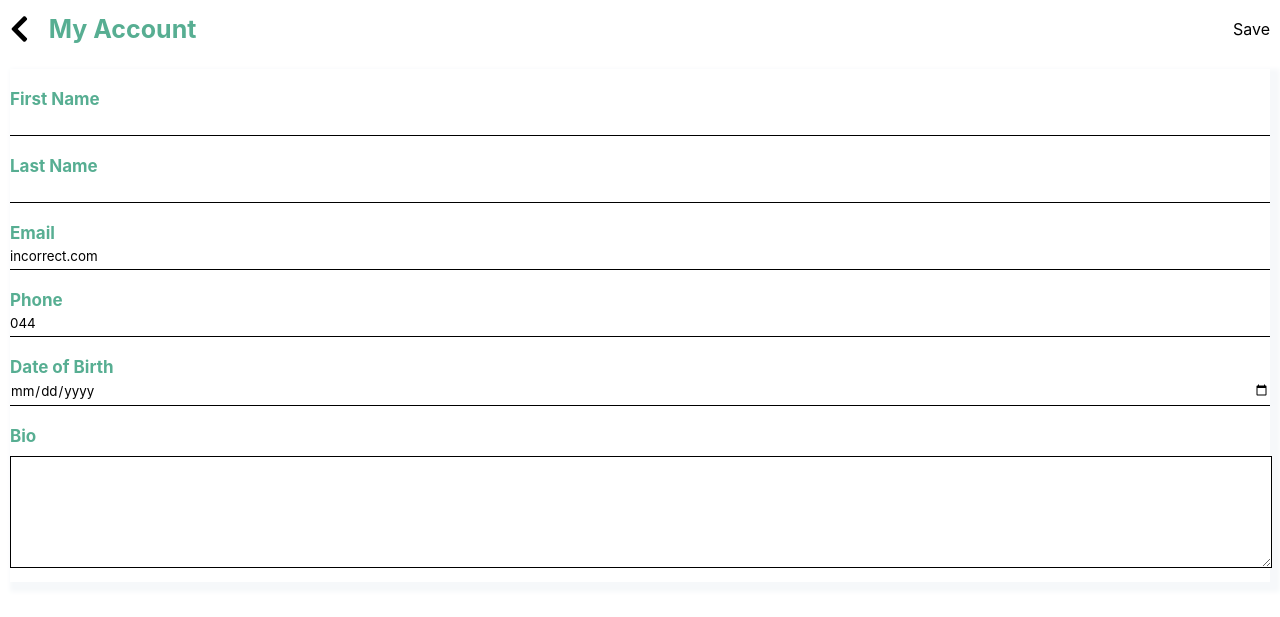
Test case: Save Button: Test the MyAccount form to ensure all field type (e.g email) validation shows
Click the text "Save" at [1252, 29], box x1=1233 y1=19 x2=1270 y2=39
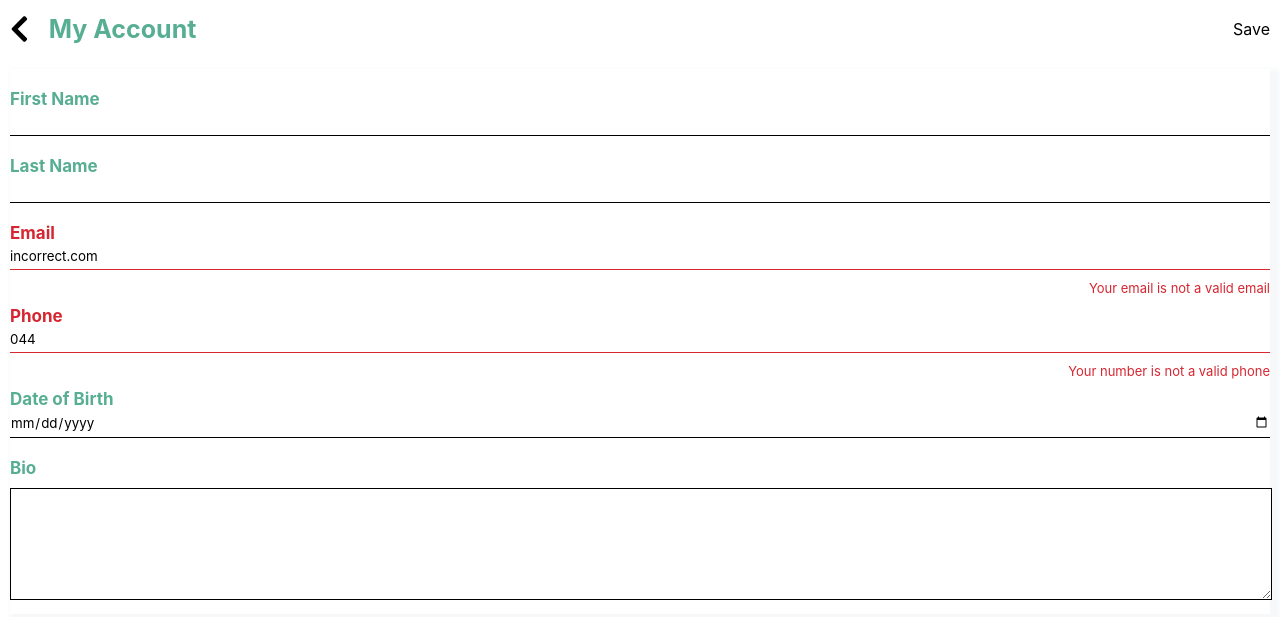
Result: the text "Your email is not a valid email" is shown at x1=1089 y1=280 x2=1270 y2=296
Result: the text "Your number is not a valid phone" is shown at x1=1068 y1=363 x2=1270 y2=379
